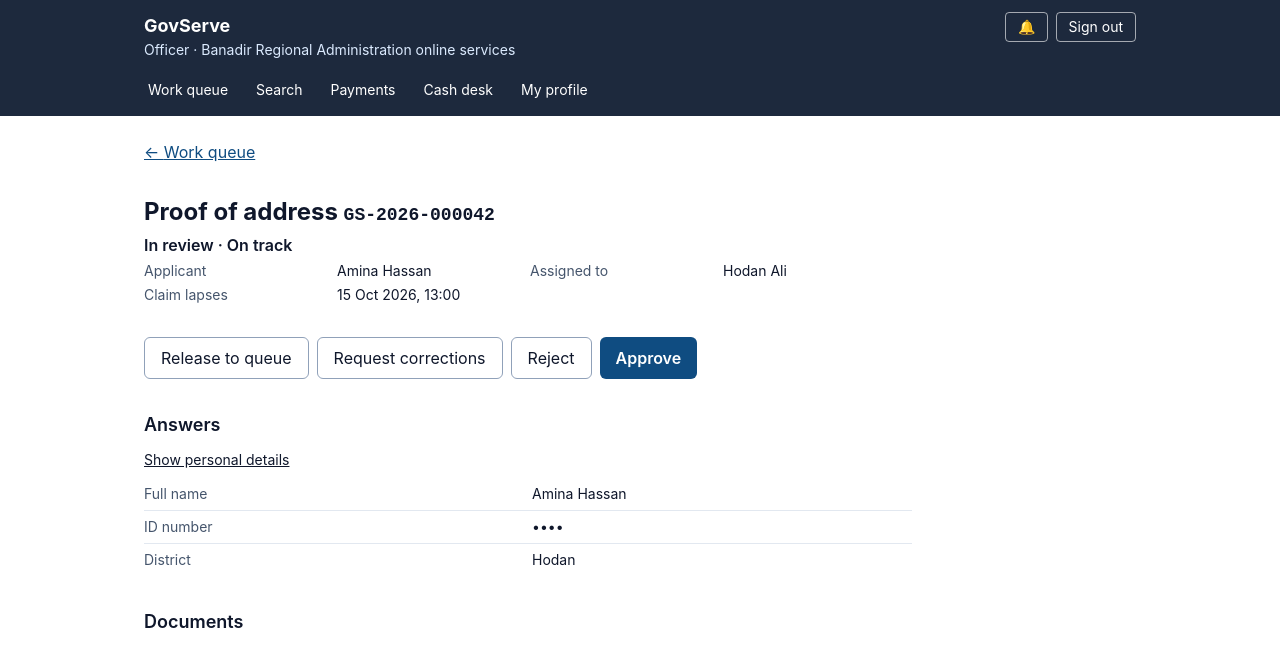
Test case: officer review page › should show masked answers and approve with the version seen
Expected: the text with test id "answer-idNumber" reads "••••", [532,518,564,535]
What coordinates should you click on to do the following:
click the button "Approve"
I would click on:
 (648, 358)
Its box is [600,337,697,379].
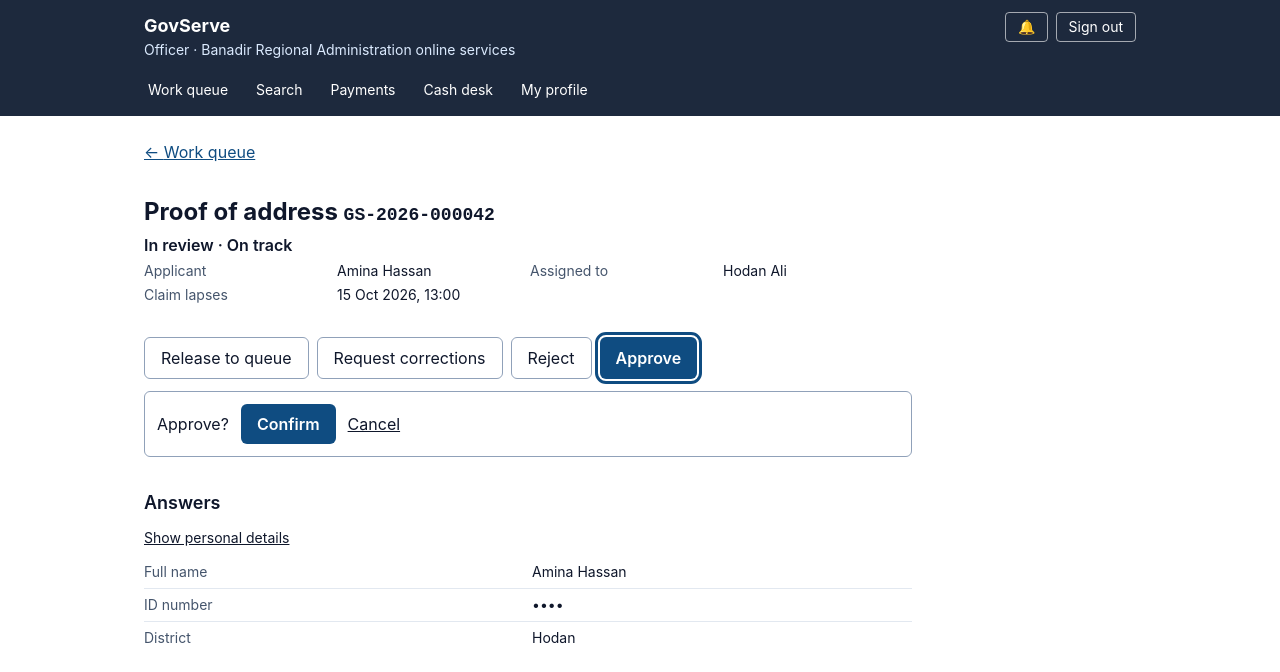
What coordinates should you click on to do the following:
click the button "Confirm"
I would click on:
 (288, 424)
Its box is [241,404,336,444].
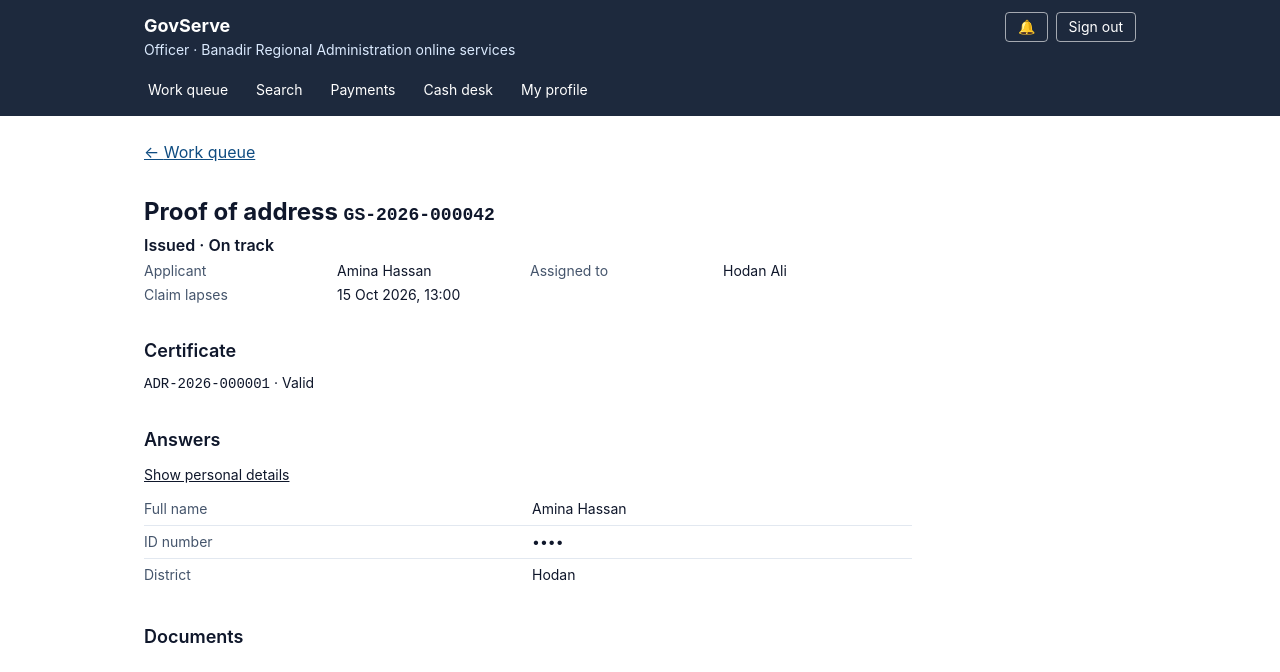
Expected: the text "ADR-2026-000001" is shown, [144,376,270,392]
